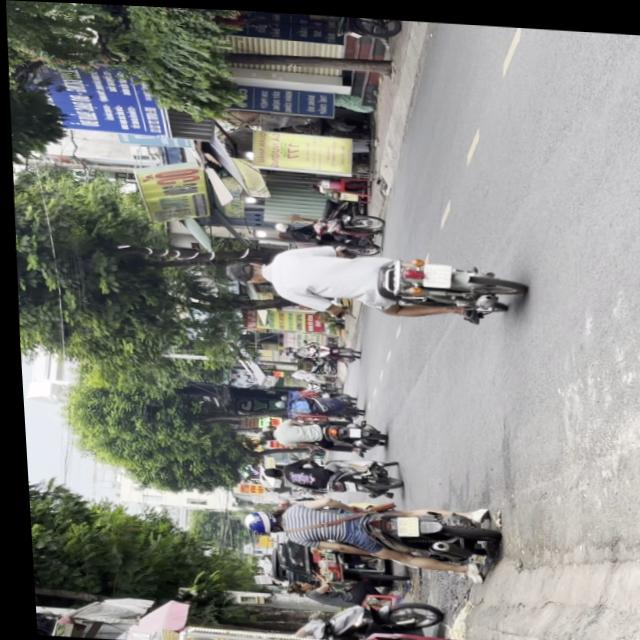helmet: (235, 504, 275, 531)
licenseplate: (216, 235, 522, 323), (230, 487, 493, 571)
motorcyclist: (220, 255, 263, 282)
nohelmet: (419, 259, 448, 283), (389, 511, 411, 532)
